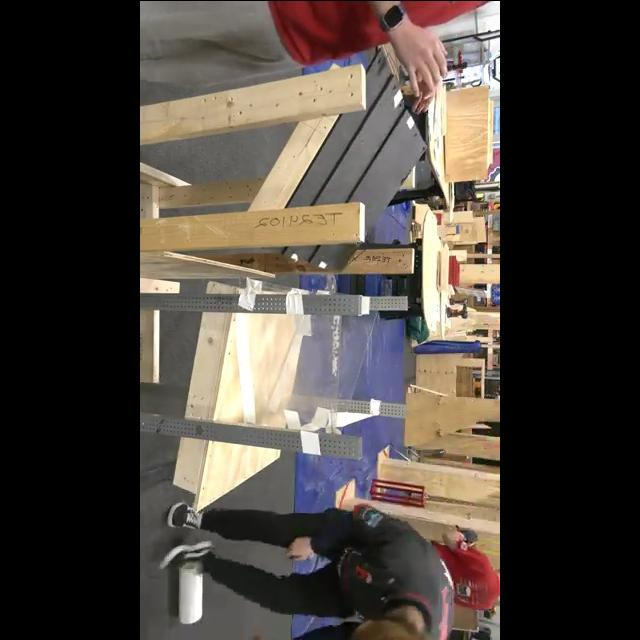CORAL: (178, 560, 206, 624)
